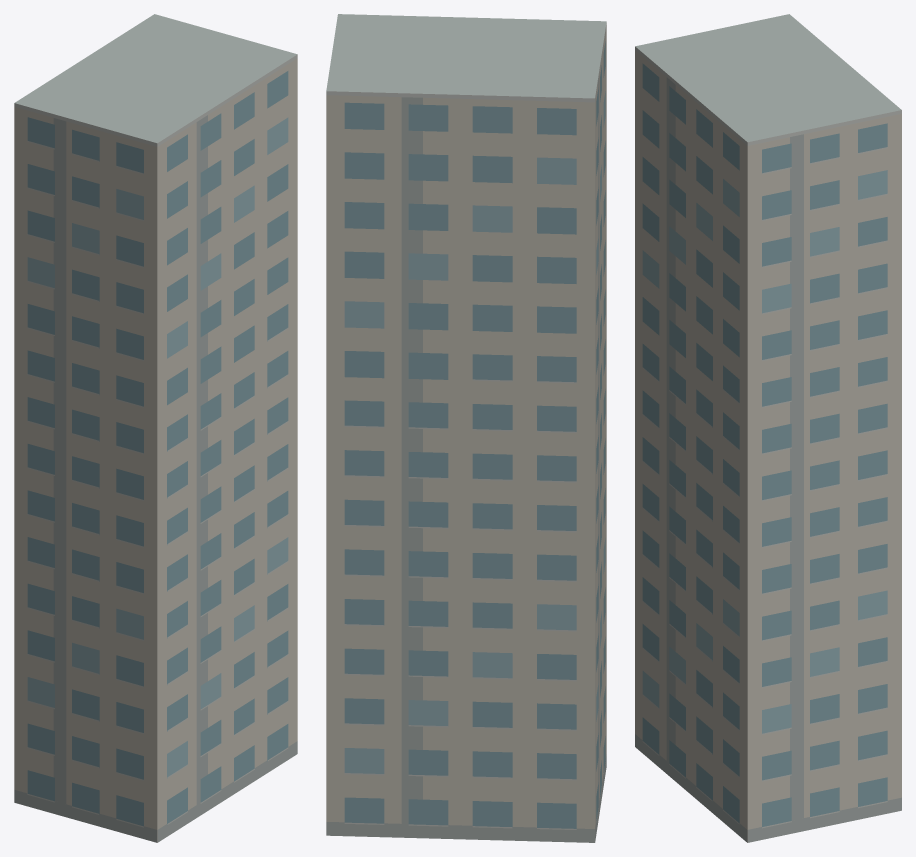
The model's file is residential-132966cb-3fb3-4b71-8ca3-5465c39eede5.glb.
3 views of the same model, side by side, from view 1: azimuth 30°, elevation 25°; view 2: azimuth 150°, elevation 25°; view 3: azimuth 270°, elevation 25° (orthographic). The views are drawn at different scales.
Visible parts, largest first — view 1: residential-132966cb-3fb3-4b71-8ca3-5465c39eede5.tmp; view 2: residential-132966cb-3fb3-4b71-8ca3-5465c39eede5.tmp; view 3: residential-132966cb-3fb3-4b71-8ca3-5465c39eede5.tmp.
Boxes of the visible parts, x1,y1,x2,y2 form: residential-132966cb-3fb3-4b71-8ca3-5465c39eede5.tmp: (14, 14, 297, 842); residential-132966cb-3fb3-4b71-8ca3-5465c39eede5.tmp: (326, 14, 606, 842); residential-132966cb-3fb3-4b71-8ca3-5465c39eede5.tmp: (635, 14, 901, 842).
Bounding box in the file's own units: 18.07 × 46 × 15.88.
